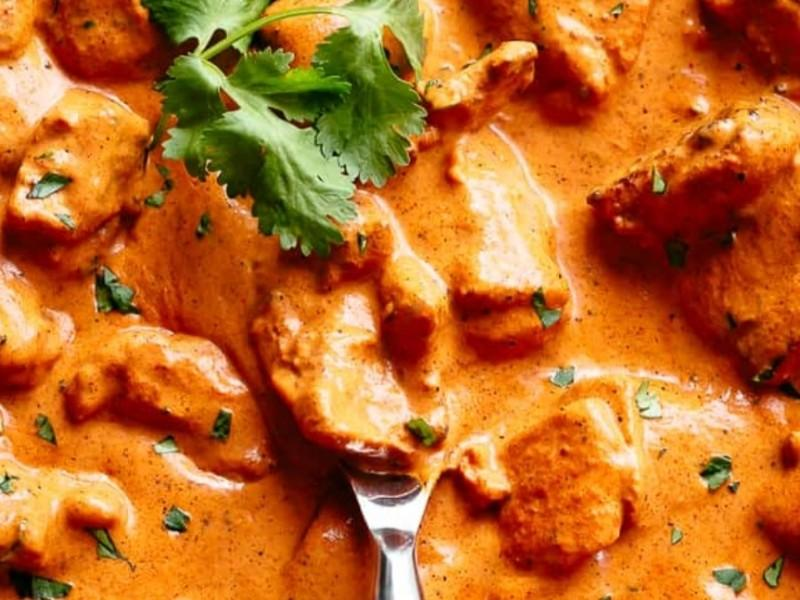butter_chicken: (5, 4, 796, 594)
